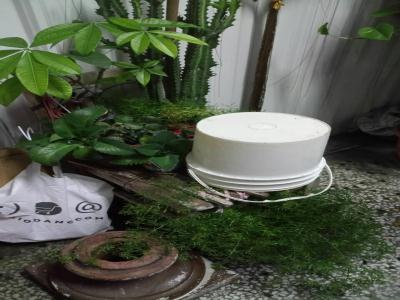bucket: (184, 109, 335, 194)
plastic_bag: (1, 170, 111, 241)
